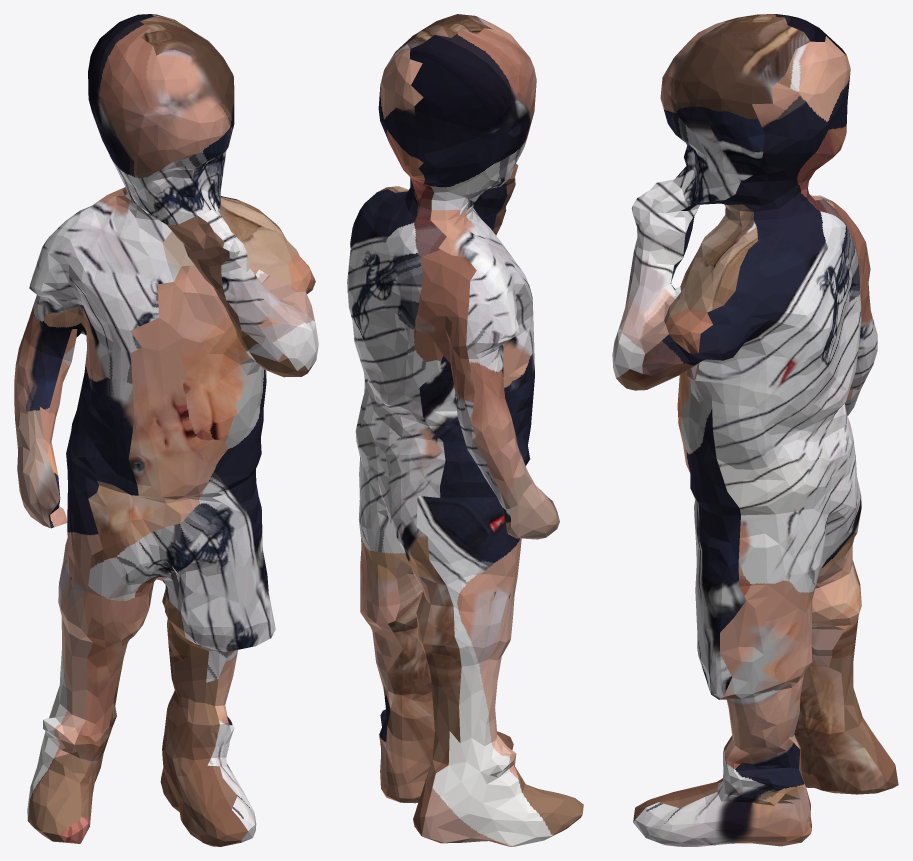
File: kid_1.glb
The picture shows the model from 3 angles, left to right: view 1: azimuth 30°, elevation 25°; view 2: azimuth 150°, elevation 25°; view 3: azimuth 270°, elevation 25°; orthographic projection. The views are drawn at different scales.
Parts seen in each view (by area): view 1: kid_1; view 2: kid_1; view 3: kid_1.
Part boxes in pixels (x1,y1,x2,y2): kid_1: [14, 14, 318, 846]; kid_1: [347, 14, 583, 846]; kid_1: [612, 14, 898, 846].
Size of the model in its own units: 0.2575 by 0.7784 by 0.25.
Materials: 1 (1 with a texture image).
